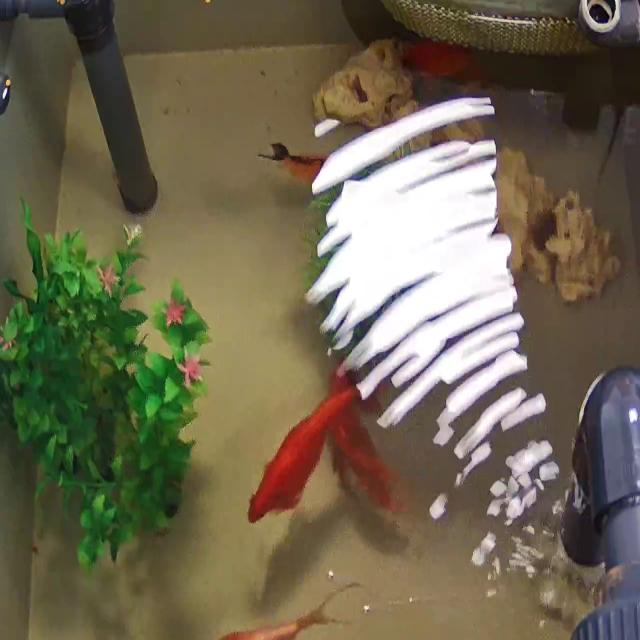fish: (242, 366, 354, 534), (130, 576, 365, 640), (323, 359, 422, 503), (382, 36, 501, 88), (256, 131, 336, 185)
